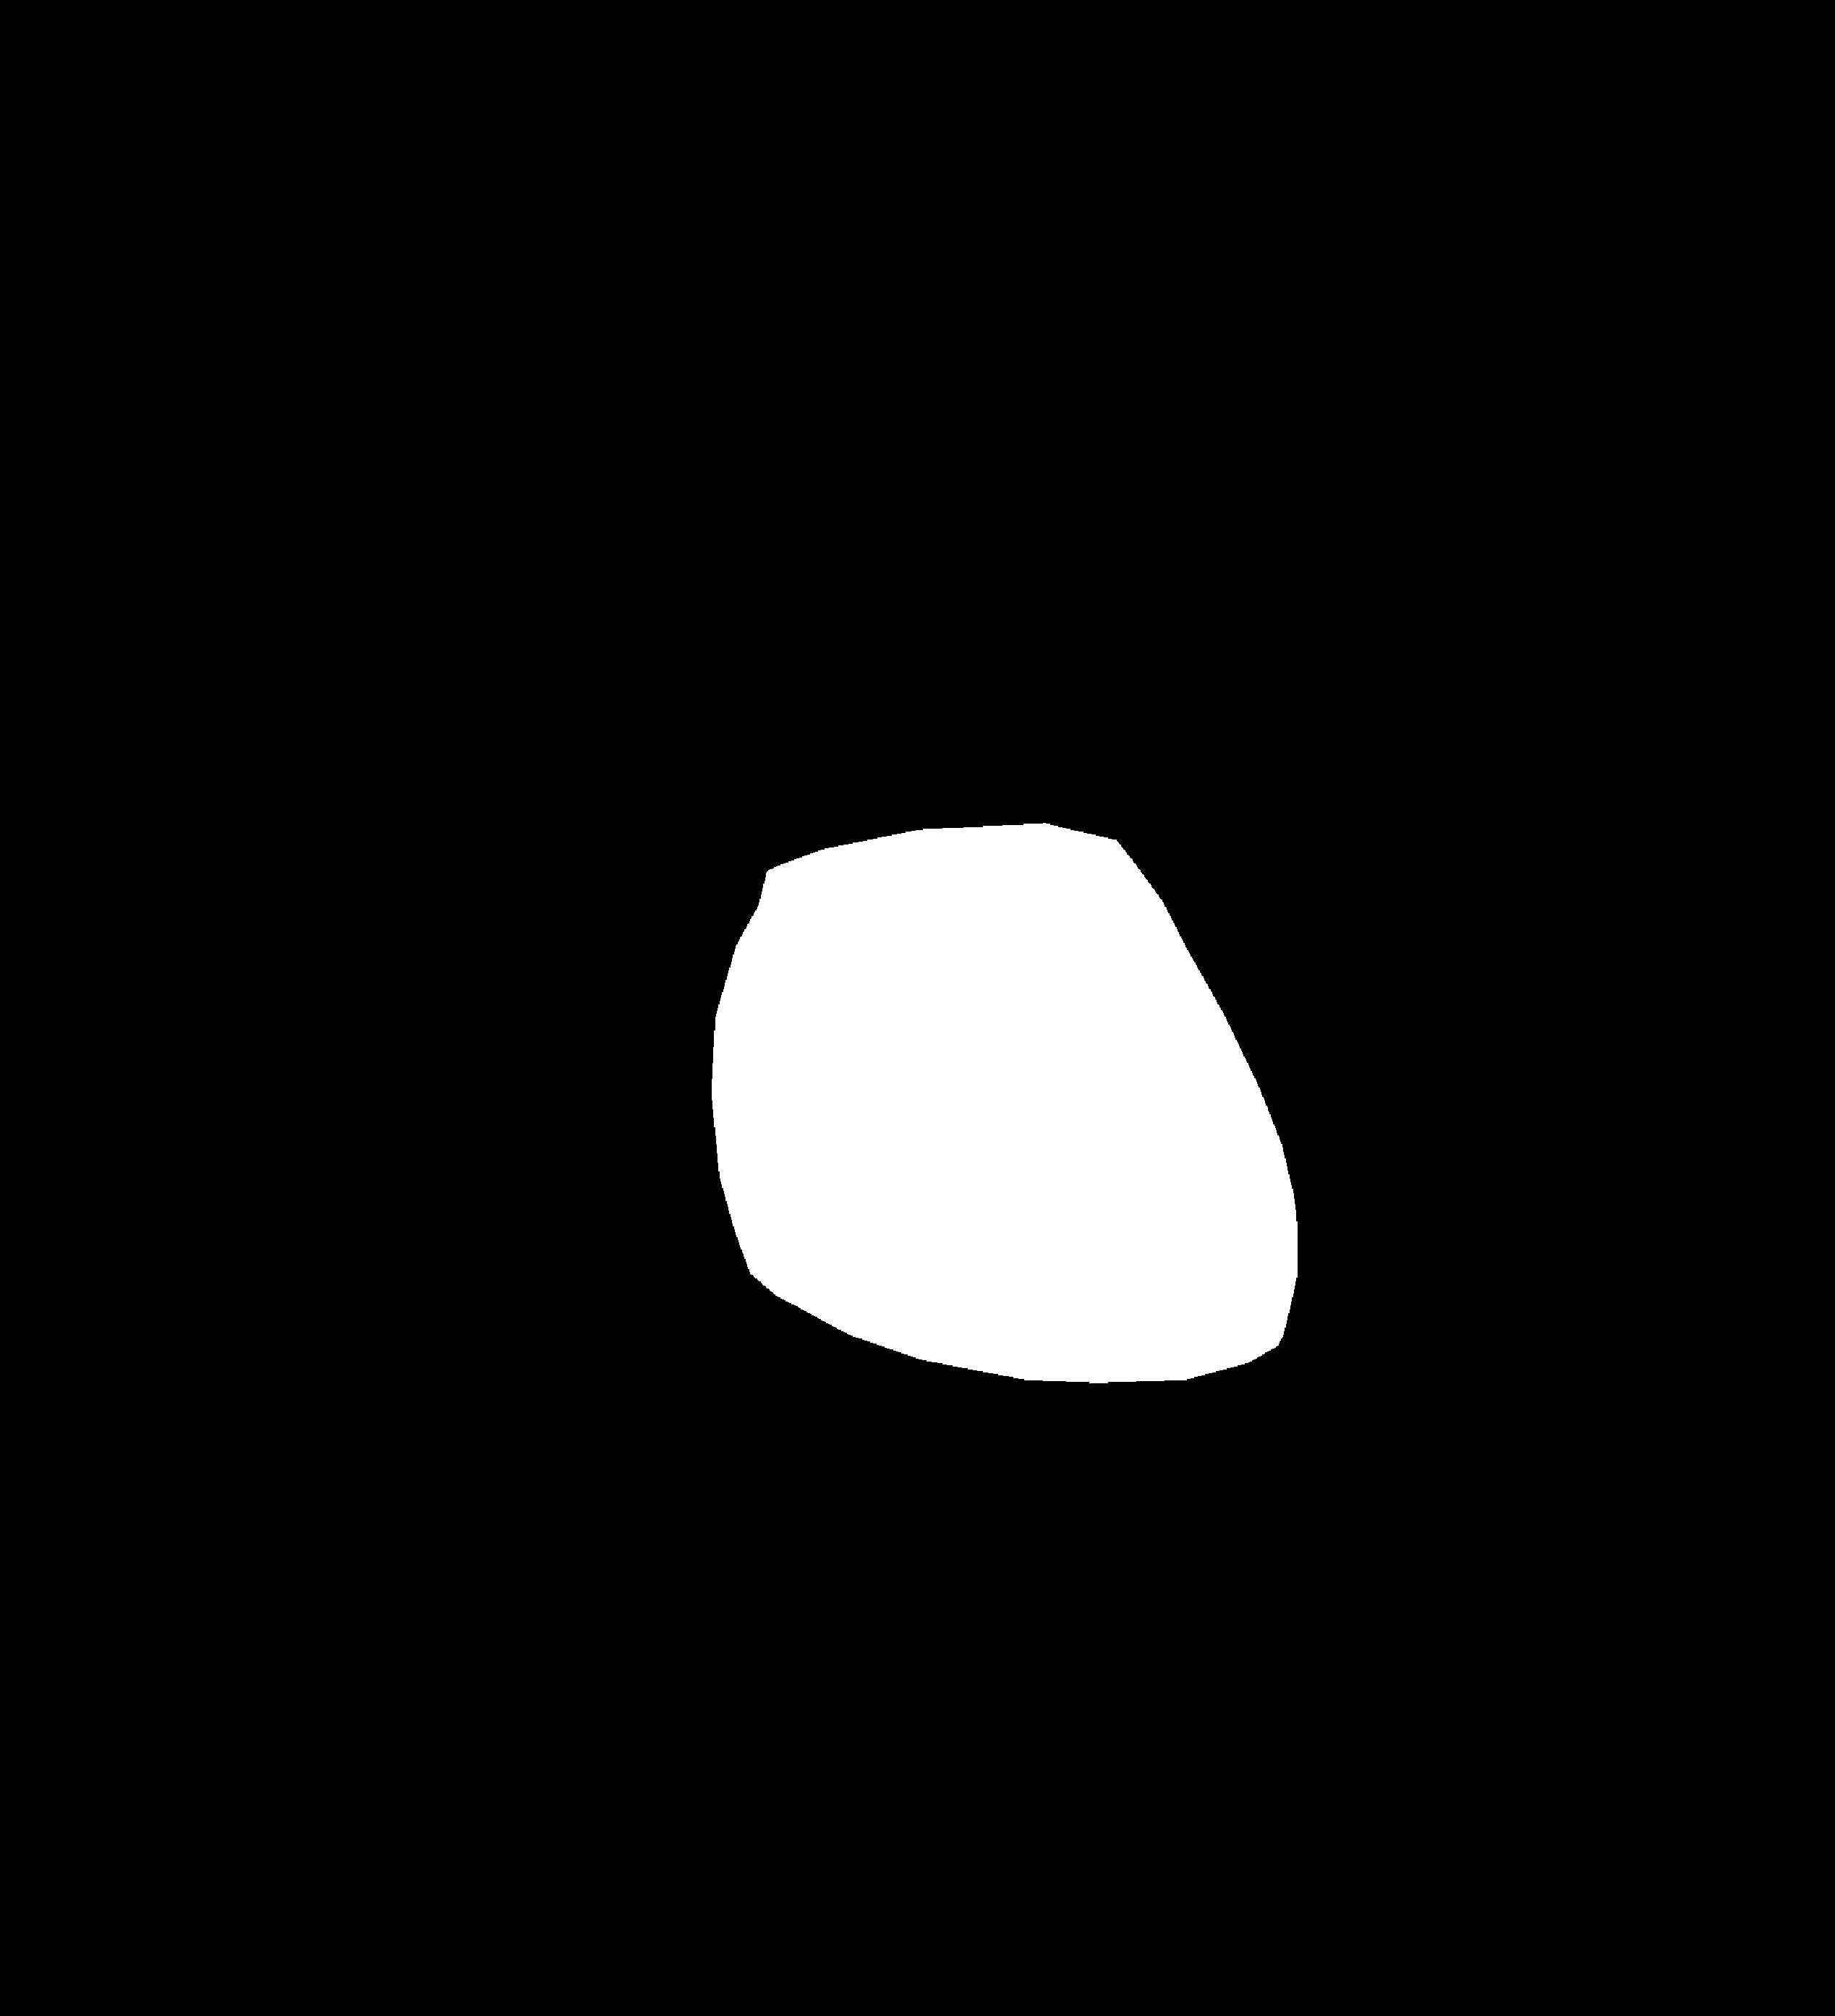heart: (715, 889, 1299, 1373)
left_lung: (239, 253, 839, 1417)
right_lung: (1004, 242, 1566, 1479)
